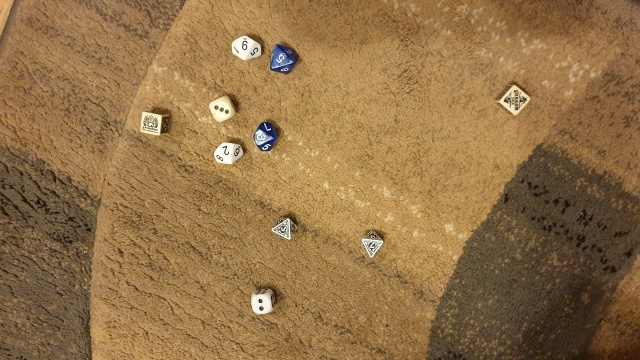d10-2: (209, 142, 248, 167)
d10-3: (250, 118, 281, 156)
d10-5: (267, 40, 299, 81)
d10-9: (228, 32, 262, 62)
d6-2: (246, 286, 281, 316)
d6-3: (206, 93, 238, 123)
d6p-1: (491, 80, 533, 119)
d6p-6: (137, 111, 172, 136)
d8p-5: (270, 214, 299, 241)
d8p-7: (359, 226, 388, 261)
